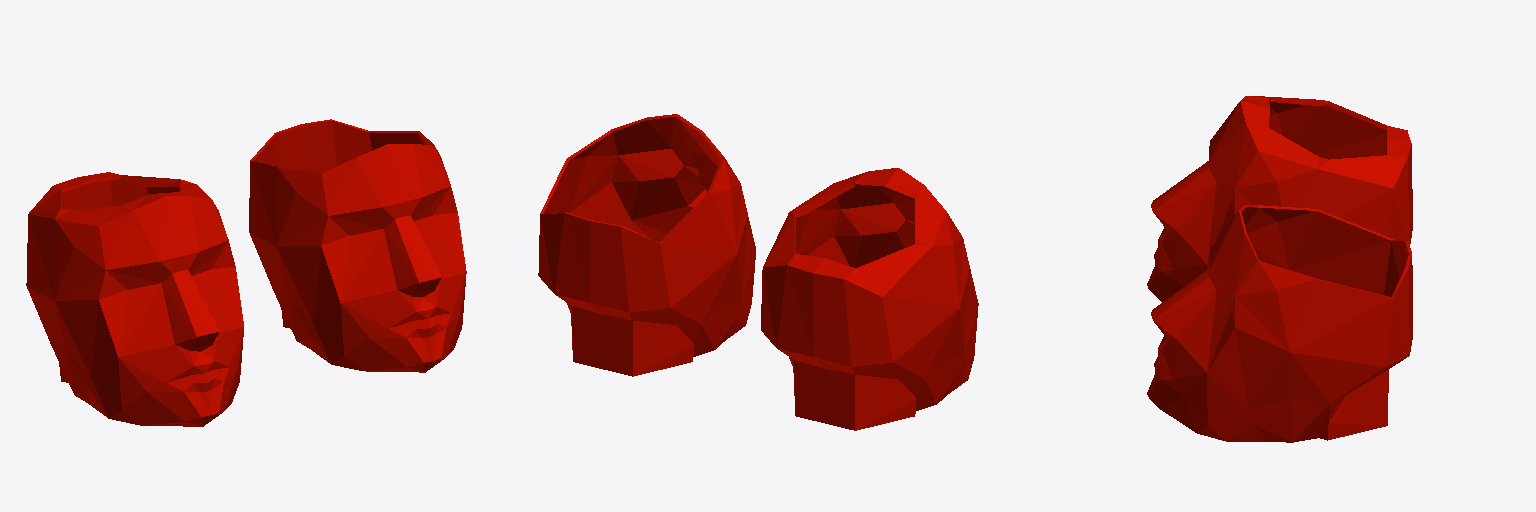
File: low_poly_head_mug_ccby_tuna_bozankaya.obj
3 renders of one model, left to right at view 1: azimuth 30°, elevation 25°; view 2: azimuth 150°, elevation 25°; view 3: azimuth 270°, elevation 25°, orthographic.
Visible parts, largest first — view 1: Alt_Cift.005_Plane.011, Alt_Cift.007_Plane.016; view 2: Alt_Cift.005_Plane.011, Alt_Cift.007_Plane.016; view 3: Alt_Cift.007_Plane.016, Alt_Cift.005_Plane.011.
Boxes of the visible parts, x1,y1,x2,y2 form: Alt_Cift.005_Plane.011: [26, 172, 243, 426]; Alt_Cift.007_Plane.016: [249, 119, 466, 372]; Alt_Cift.005_Plane.011: [761, 168, 978, 430]; Alt_Cift.007_Plane.016: [538, 114, 755, 376]; Alt_Cift.007_Plane.016: [1147, 205, 1412, 442]; Alt_Cift.005_Plane.011: [1147, 96, 1412, 301].
Bounding box in the file's own units: 0.2751 × 0.1352 × 0.1614.